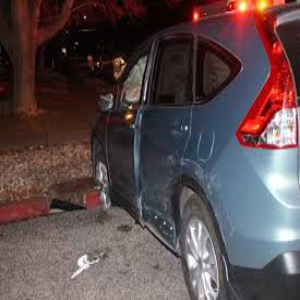door_scratch: (139, 158, 178, 248)
